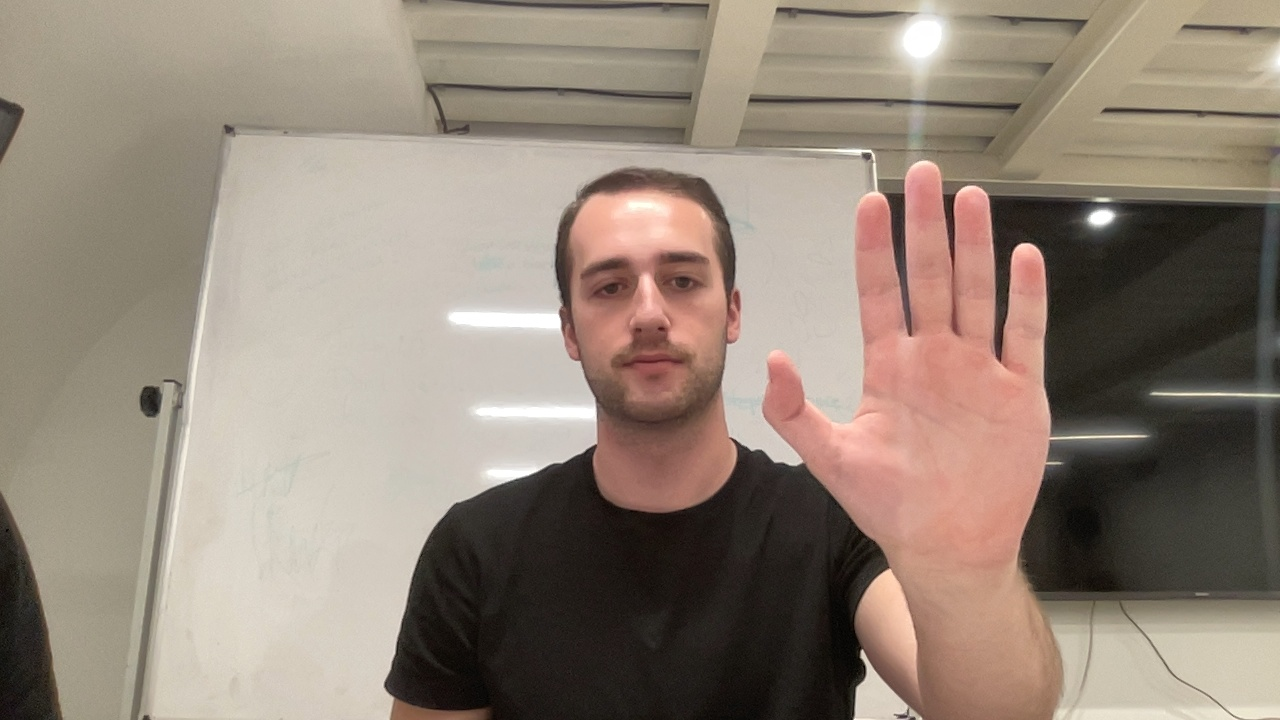Hello: (757, 159, 1055, 594)
